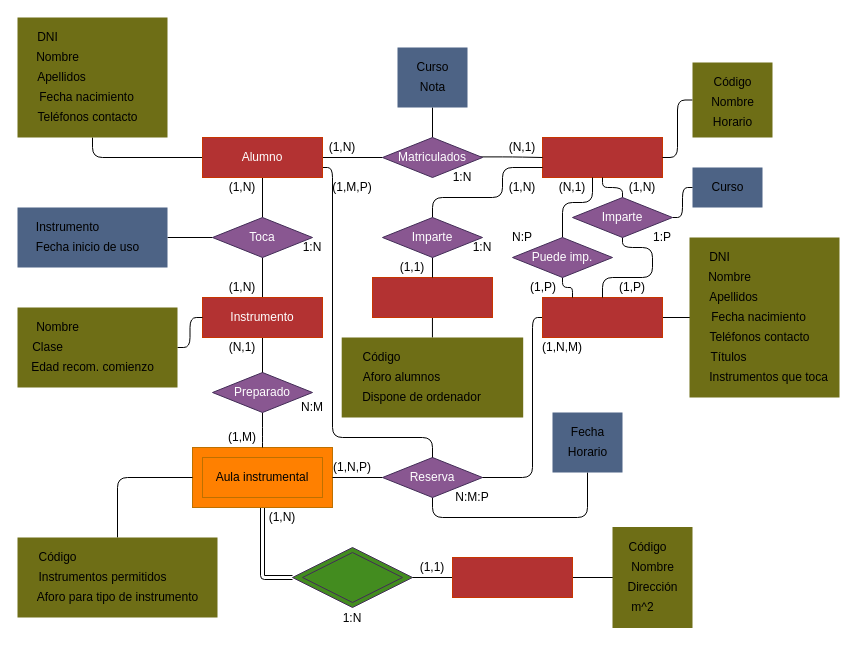
The diagram is 856 pixels wide and 645 high, and some of its shapes have lost their labels. The shapes that lost their labels are listed below. From the top down, each one's centre as x and y in pixels, then its label:
point 602,157: Asignatura
point 432,297: Aula magistral
point 602,317: Profesor
point 352,577: Pertenece
point 512,577: Edificio
